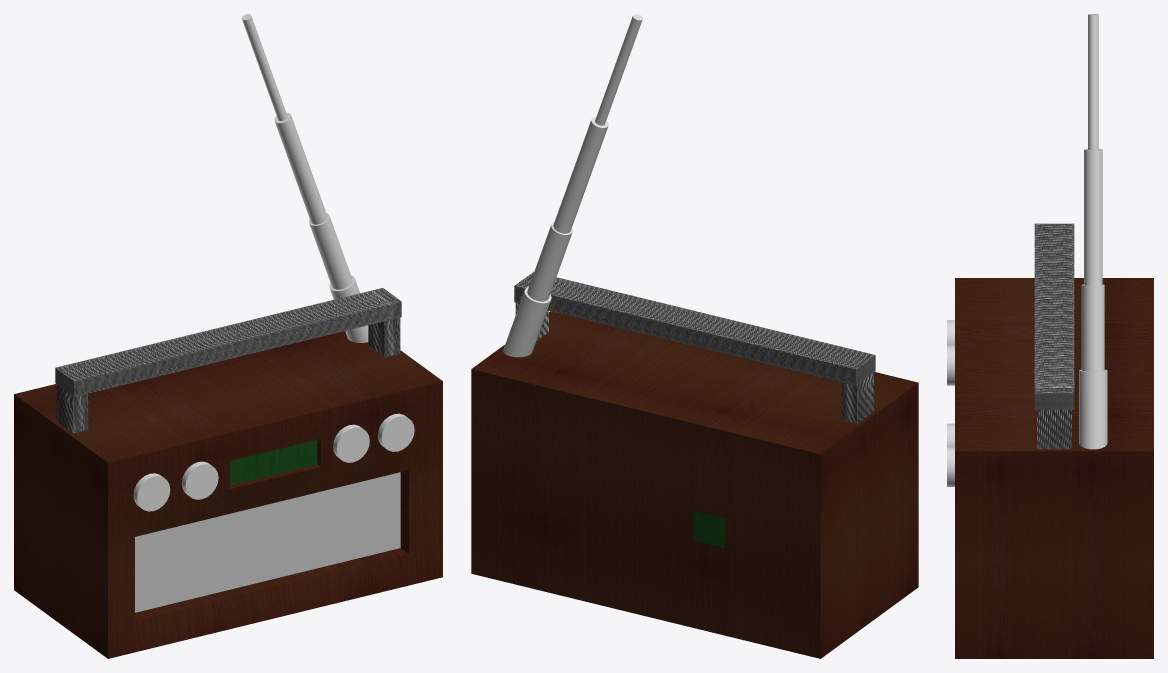
File: radio.fbx
3 renders of one model, left to right at view 1: azimuth 30°, elevation 25°; view 2: azimuth 150°, elevation 25°; view 3: azimuth 270°, elevation 25°, orthographic. The views are drawn at different scales.
Parts seen in each view (by area): view 1: pCube1, pCube4, pCylinder9, pCube2, pCylinder2, pCylinder3, pCylinder1, pCylinder4, pCube3; view 2: pCube1, pCube4, pCylinder9, pCube2; view 3: pCube1, pCylinder9, pCube4, pCube3, pCylinder1, pCylinder4.
Boxes of the visible parts, x1,y1,x2,y2 form: pCube1: (14,331,442,658); pCube4: (55,288,401,396); pCylinder9: (241,14,368,342); pCube2: (56,384,88,433); pCylinder2: (133,473,170,511); pCylinder3: (333,424,369,462); pCylinder1: (181,461,218,499); pCylinder4: (378,413,414,451); pCube3: (368,317,400,357); pCube1: (471,311,918,658); pCube4: (514,272,875,385); pCylinder9: (503,14,642,357); pCube2: (841,373,874,423); pCube1: (955,278,1153,658); pCylinder9: (1079,14,1107,449); pCube4: (1034,223,1074,409); pCube3: (1037,409,1071,449); pCylinder1: (947,345,954,385); pCylinder4: (947,446,954,486).
Size of the model in its own units: 3.89 by 6.06 by 1.96.
